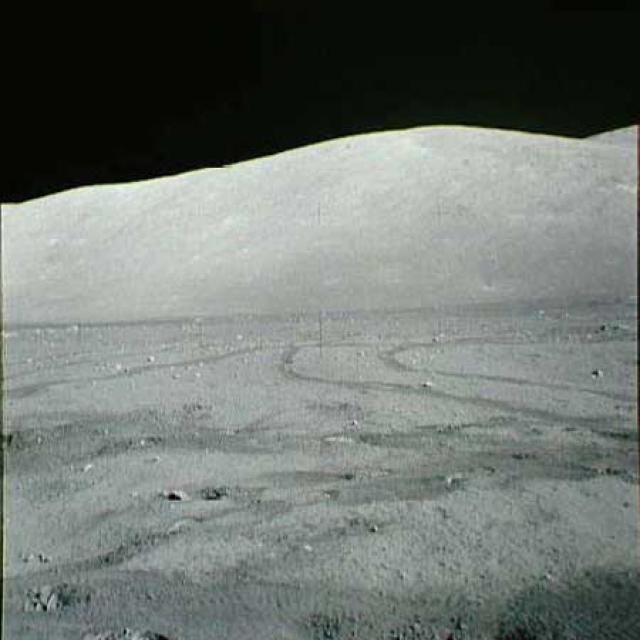crater: (482, 313, 639, 353), (147, 475, 233, 508)
rock: (158, 481, 194, 508)
